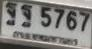letters: (5, 2, 17, 25), (21, 4, 33, 27), (41, 7, 52, 27), (54, 9, 65, 29), (66, 10, 77, 30), (79, 12, 90, 31)
province: (13, 31, 78, 46)
